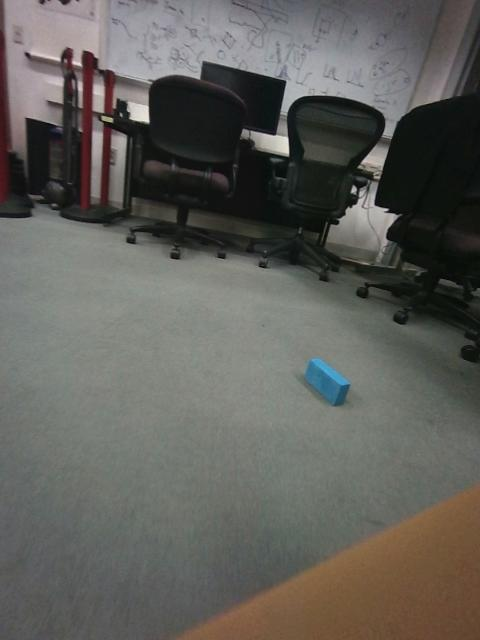block: (210, 338, 275, 375)
